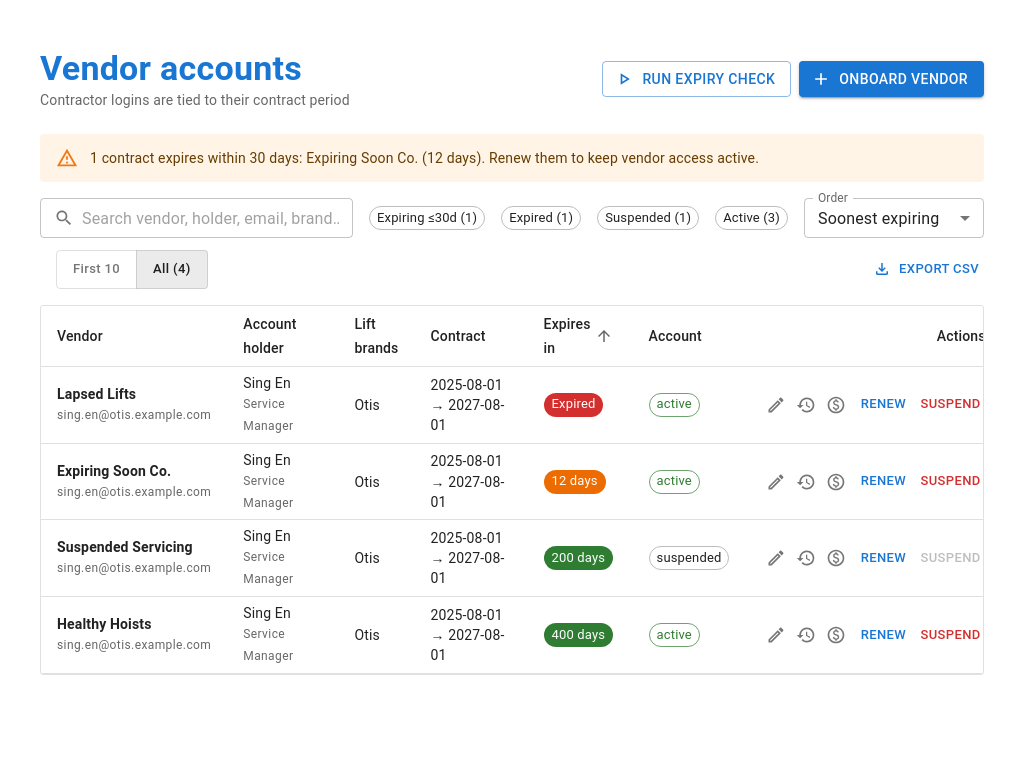
AdminVendorPage — filters › a chip filters the table, and clicking it again clears the filter
This screenshot has width=1024, height=768.
Click the button "Suspended (1)": {"x": 648, "y": 218} 597,206 -> 699,230
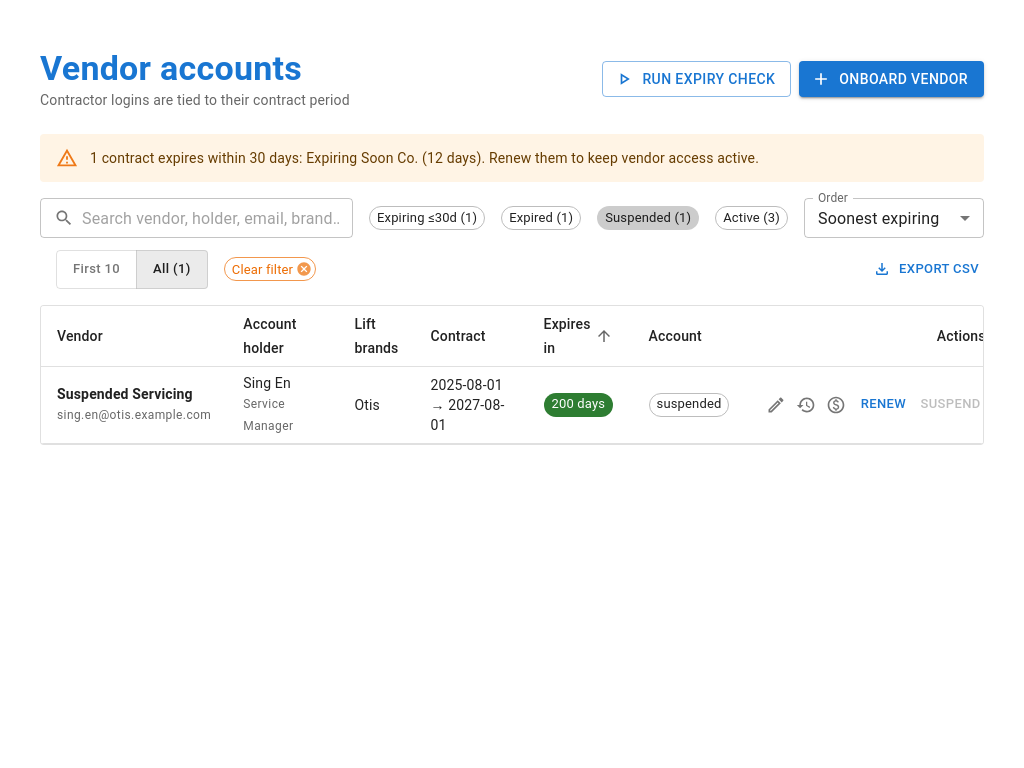
Expected: the text "Suspended Servicing" is shown, 57,384 -> 211,404
Result: the text "Healthy Hoists" is gone
Click the button "Suspended (1)": {"x": 648, "y": 218} 597,206 -> 699,230
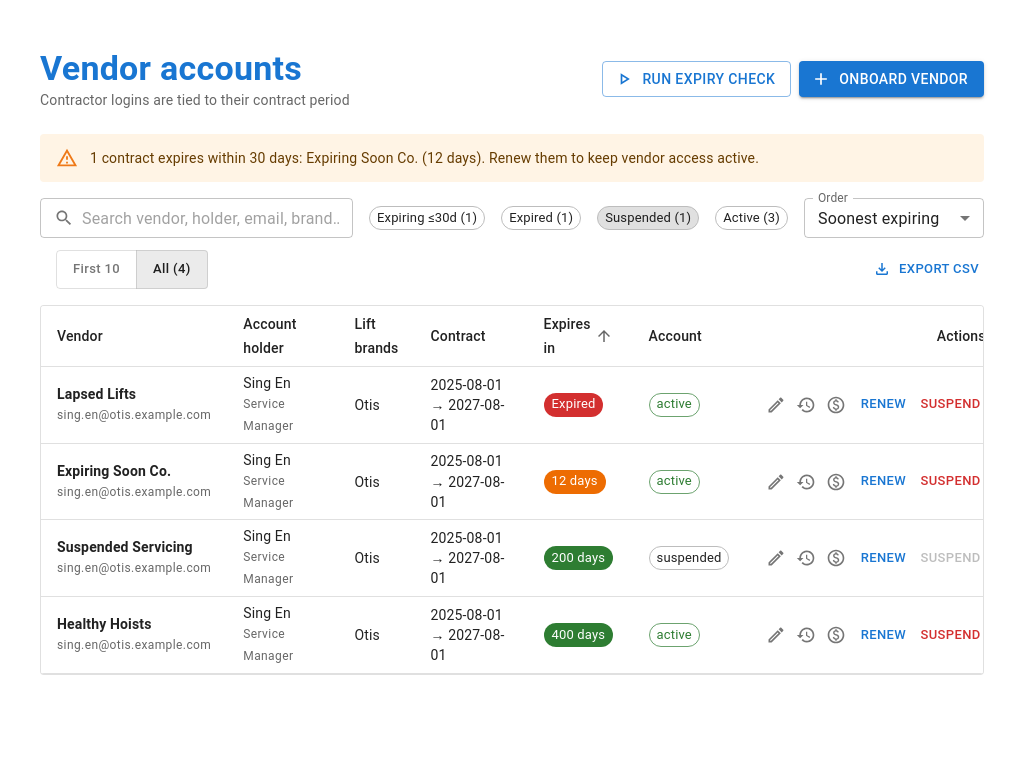
Result: the text "Healthy Hoists" is shown at 57,616 -> 152,632
